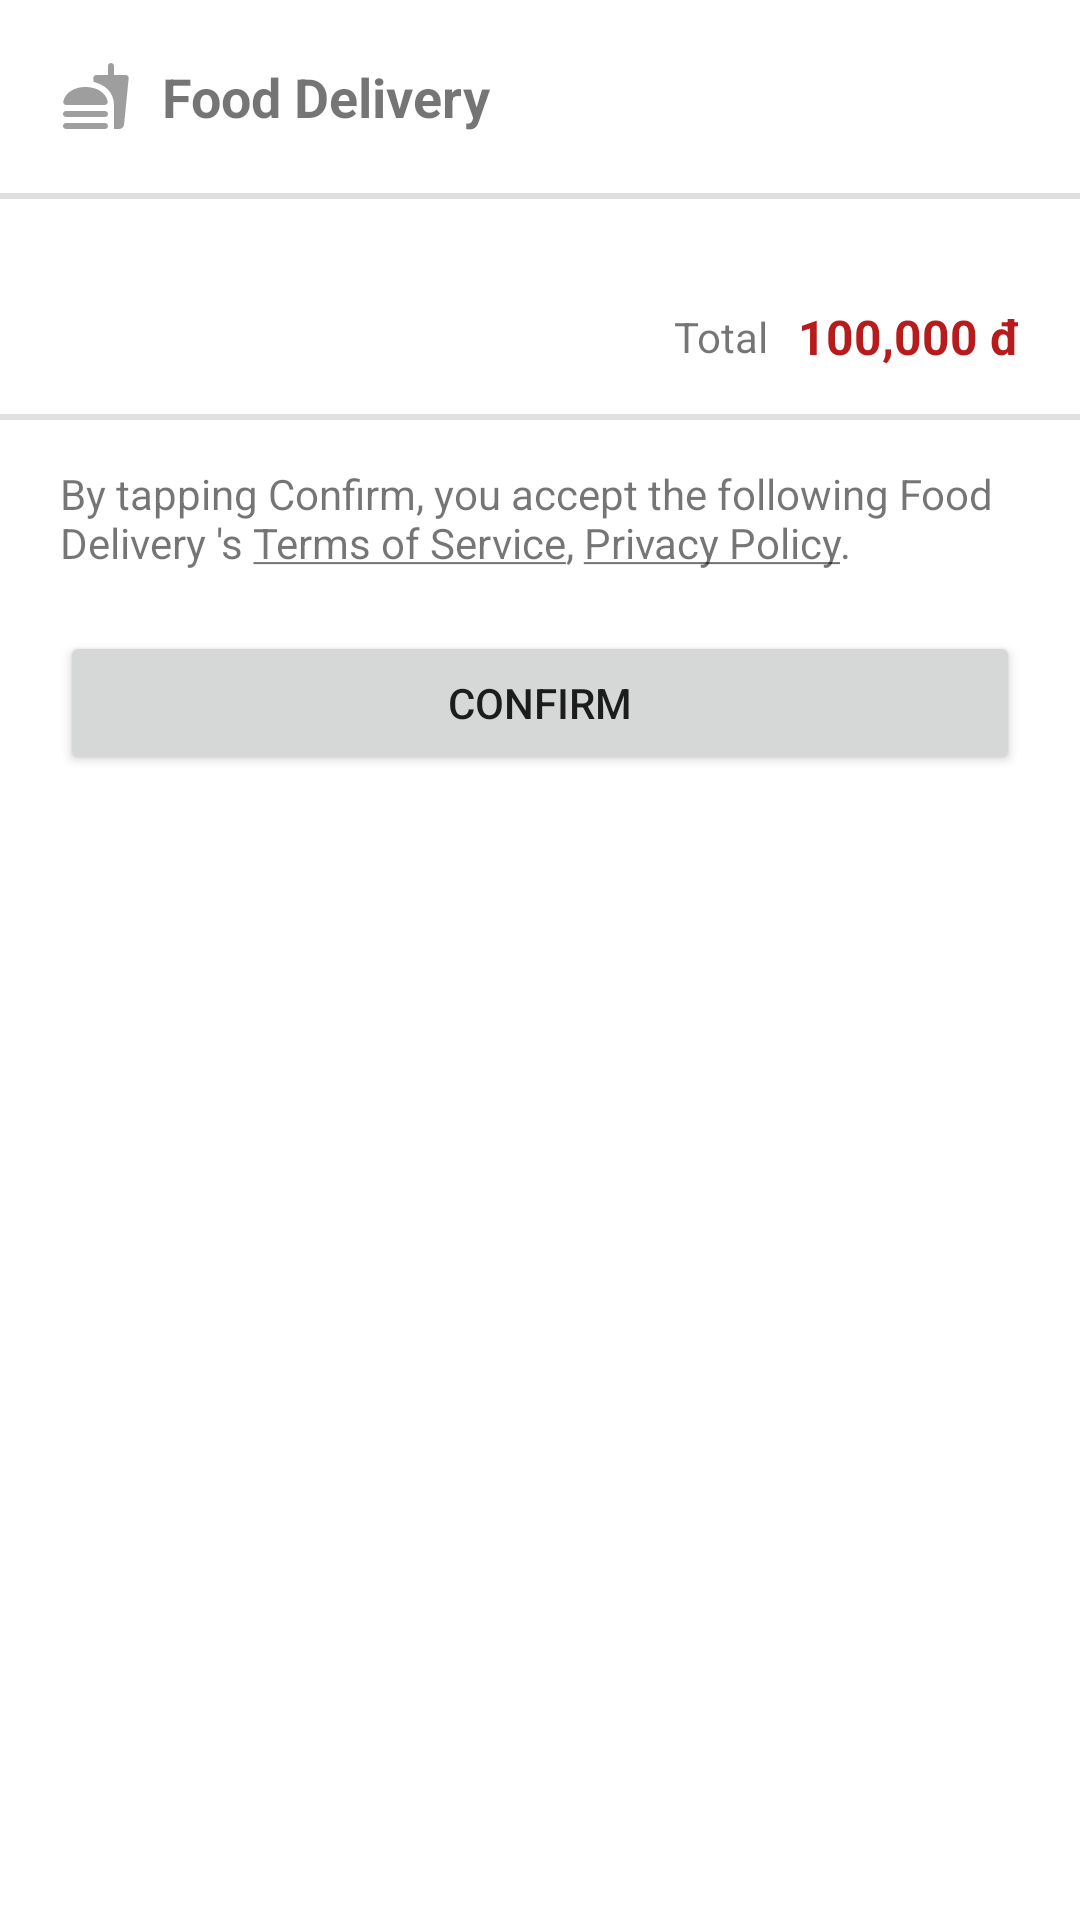

Icon bounding boxes for this 1080 × 1920 phone screenshot, format rect(x1, y1, x2, y2):
fastfood: rect(63, 63, 129, 129)
